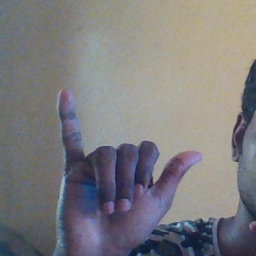J: (48, 86, 204, 247)
